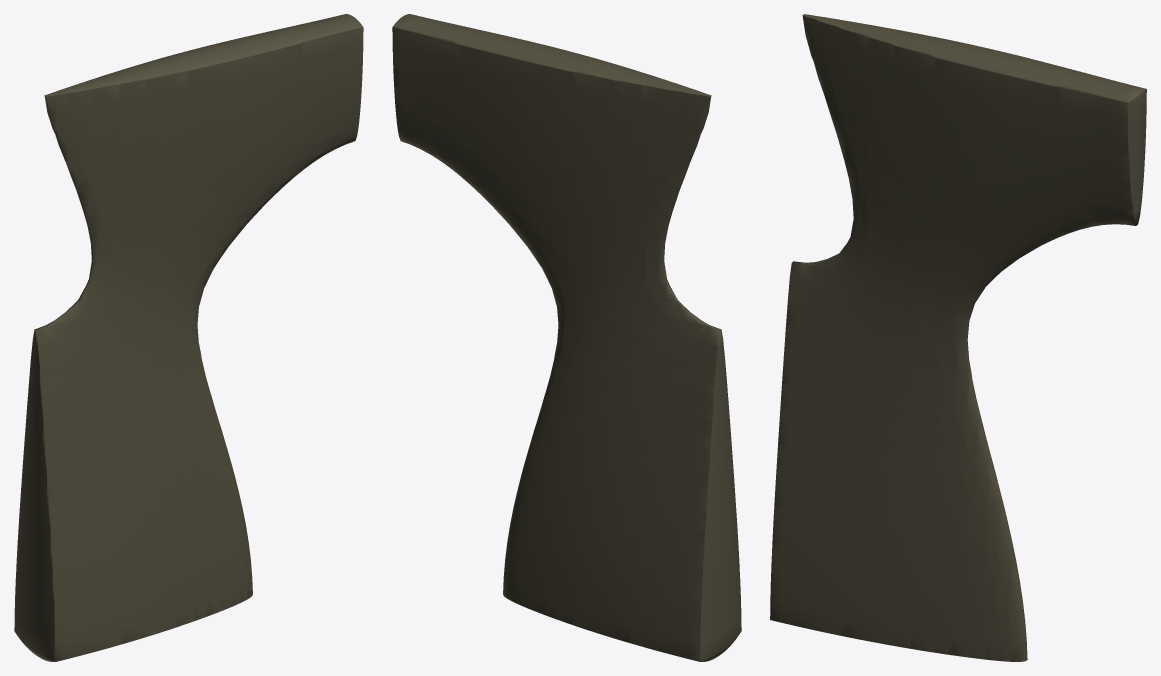
File: Lantern_016B_dct.glb
3 views of the same model, side by side, from view 1: azimuth 30°, elevation 25°; view 2: azimuth 150°, elevation 25°; view 3: azimuth 330°, elevation 25° (orthographic). The views are drawn at different scales.
Bounding box in the file's own units: 1.39 × 2.28 × 0.3084.
